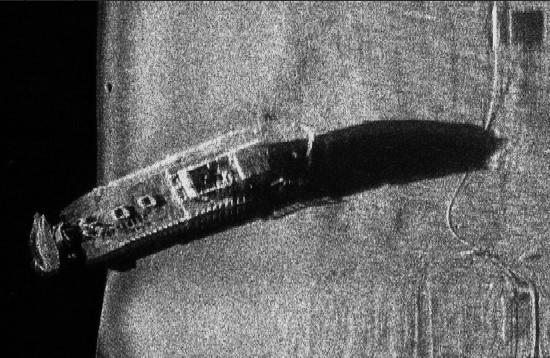ship: (31, 117, 317, 273)
